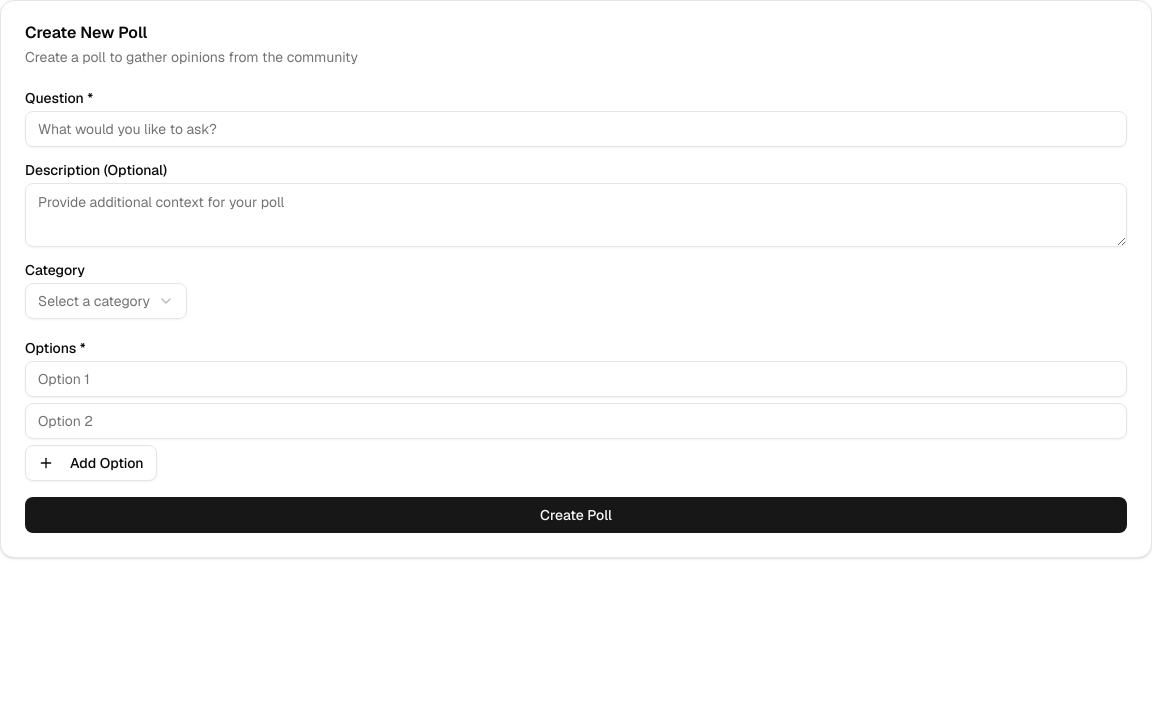
Test: CreatePollForm › Happy Path › should add options correctly
The image size is (1152, 720).
Expected: the number of fields with placeholder "Option 1" is 2, [25,361,1127,397]; [25,403,1127,439]
# Add option
Click the button "Add Option" at [91, 463], box [25,445,157,481]
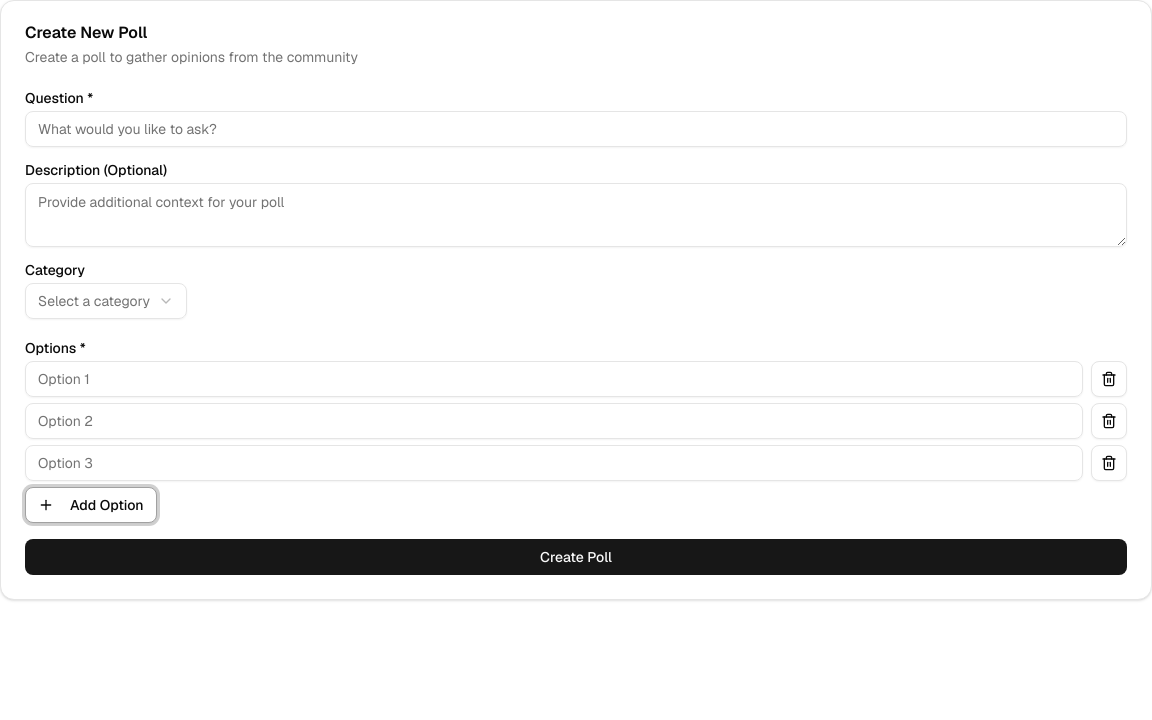
Expected: the number of fields with placeholder "Option 1" is 3, [25,361,1083,397]; [25,403,1083,439]; [25,445,1083,481]
Expected: the field with placeholder "Option 3" is shown, [25,445,1083,481]
